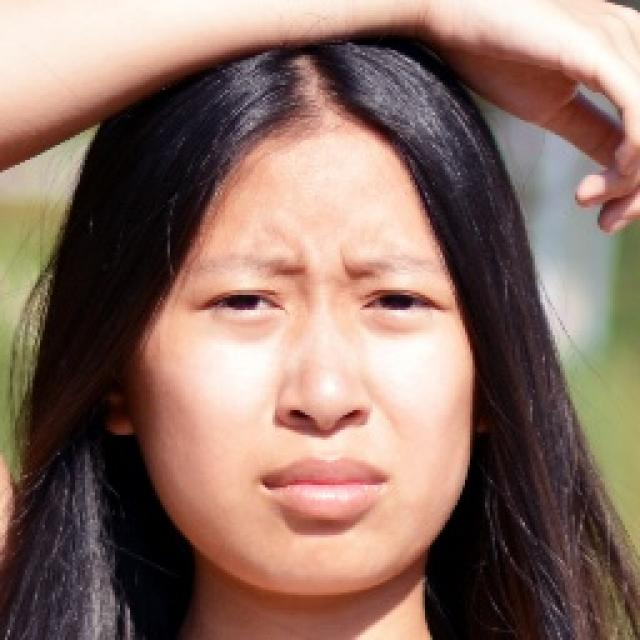earlobe: (100, 391, 140, 438)
eye: (203, 290, 278, 316), (364, 288, 431, 312)
nose: (270, 404, 382, 474)
